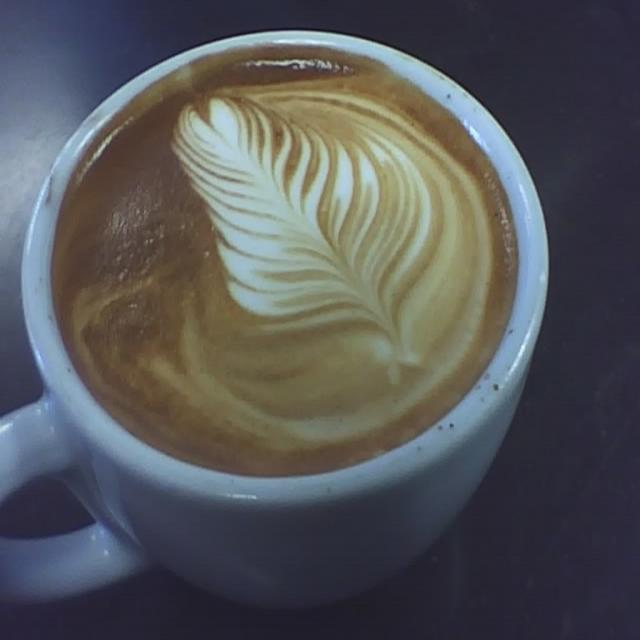Coffee: (45, 46, 519, 474)
